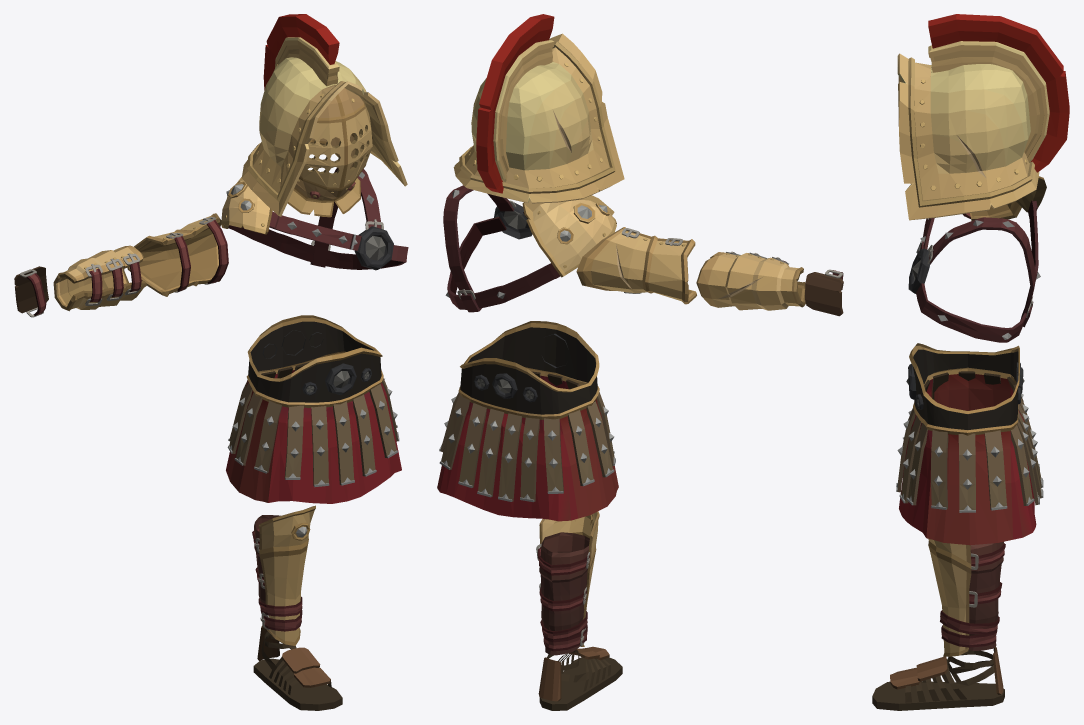
The model's file is gladiatorArmor.glb.
3 renders of one model, left to right at view 1: azimuth 30°, elevation 25°; view 2: azimuth 150°, elevation 25°; view 3: azimuth 270°, elevation 25°, orthographic. The views are drawn at different scales.
Visible parts, largest first — view 1: gladiatorSkirt, gladiatorHelmet, gladiatorBody, gladiatorChinProtector, gladiatorUpperArmProtector, gladiatorLowerArmProtector, gladiatorSandleManFootLeg, gladiatorArmorHandArm; view 2: gladiatorSkirt, gladiatorHelmet, gladiatorBody, gladiatorChinProtector, gladiatorUpperArmProtector, gladiatorLowerArmProtector, gladiatorSandleManFootLeg, gladiatorArmorHandArm; view 3: gladiatorHelmet, gladiatorSkirt, gladiatorChinProtector, gladiatorBody, gladiatorSandleManFootLeg, gladiatorUpperArmProtector.
Boxes of the visible parts, box(x1,y1,x2,y2) form: gladiatorSkirt: box(226, 315, 401, 503); gladiatorHelmet: box(241, 14, 407, 217); gladiatorBody: box(221, 167, 408, 270); gladiatorChinProtector: box(252, 505, 315, 645); gladiatorUpperArmProtector: box(127, 213, 228, 296); gladiatorLowerArmProtector: box(53, 245, 146, 311); gladiatorSandleManFootLeg: box(253, 625, 342, 710); gladiatorArmorHandArm: box(14, 266, 48, 317); gladiatorSkirt: box(437, 321, 618, 521); gladiatorHelmet: box(453, 14, 624, 203); gladiatorBody: box(443, 185, 616, 312); gladiatorChinProtector: box(536, 511, 599, 655); gladiatorUpperArmProtector: box(576, 227, 696, 304); gladiatorLowerArmProtector: box(696, 251, 805, 310); gladiatorSandleManFootLeg: box(538, 646, 622, 710); gladiatorArmorHandArm: box(805, 269, 843, 316); gladiatorHelmet: box(897, 14, 1069, 220); gladiatorSkirt: box(896, 343, 1043, 545); gladiatorChinProtector: box(928, 539, 1005, 656); gladiatorBody: box(908, 176, 1046, 342); gladiatorSandleManFootLeg: box(872, 646, 1004, 710); gladiatorUpperArmProtector: box(962, 201, 1021, 220).
Bounding box in the file's own units: 1.3 × 2.1 × 0.5375.
